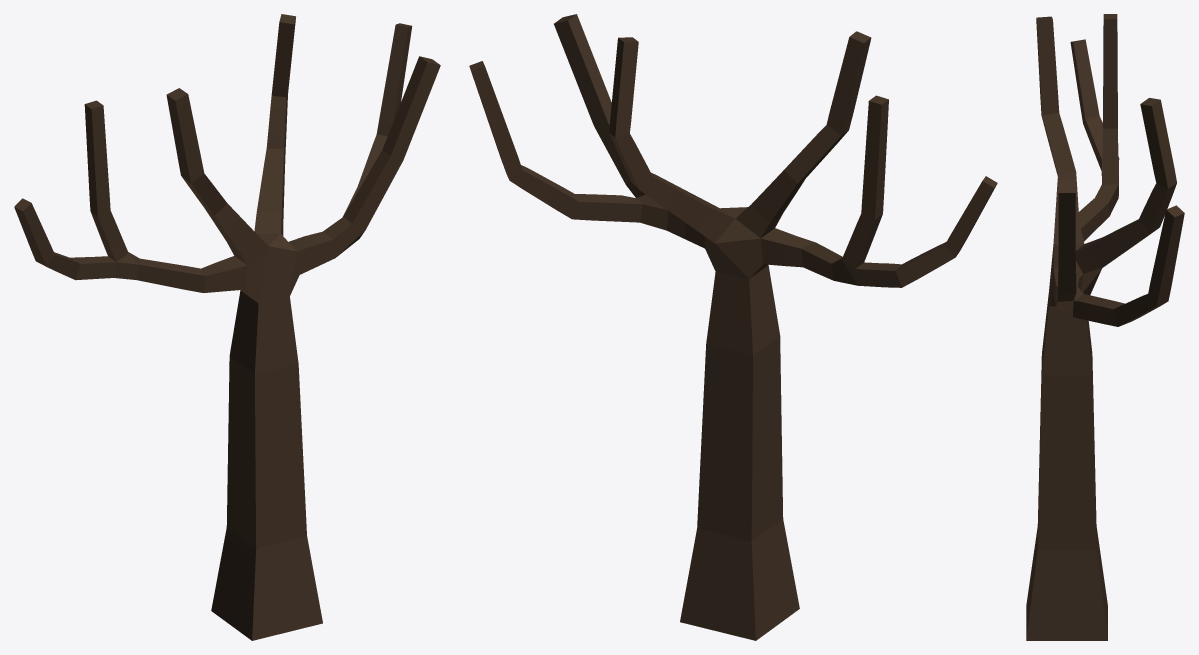
File: DeadAppleTree1.fbx
3 renders of one model, left to right at view 1: azimuth 30°, elevation 25°; view 2: azimuth 150°, elevation 25°; view 3: azimuth 270°, elevation 25°, orthographic. The views are drawn at different scales.
Parts seen in each view (by area): view 1: DeadAppleTree1; view 2: DeadAppleTree1; view 3: DeadAppleTree1.
Boxes of the visible parts, box(x1,y1,x2,y2) form: DeadAppleTree1: box(14, 14, 440, 640); DeadAppleTree1: box(469, 14, 997, 640); DeadAppleTree1: box(1026, 14, 1184, 640).
Size of the model in its own units: 3.35 by 4.02 by 1.04.
